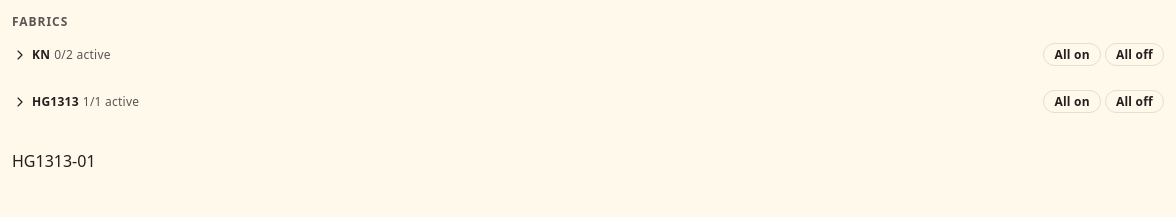
Scenario: FabricAllowedSection › All on ticks only that series and opens it; All off clears it
Click the 1st button "All on".
click(1072, 55)  # box [1043,43,1101,66]
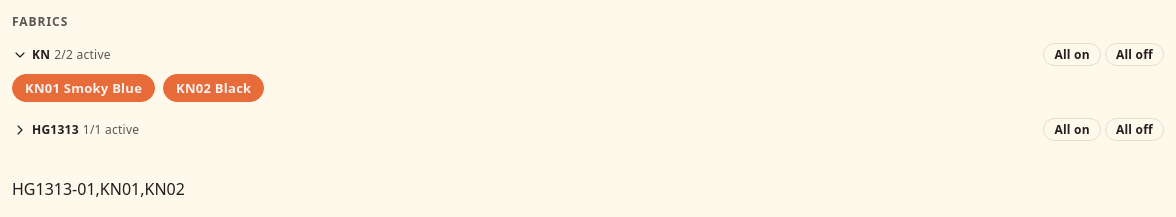
Expected: the button "KN 2/2 active" is expanded, [12,46,111,63]
Click the 1st button "All off".
click(1134, 55)  # box [1105,43,1164,66]
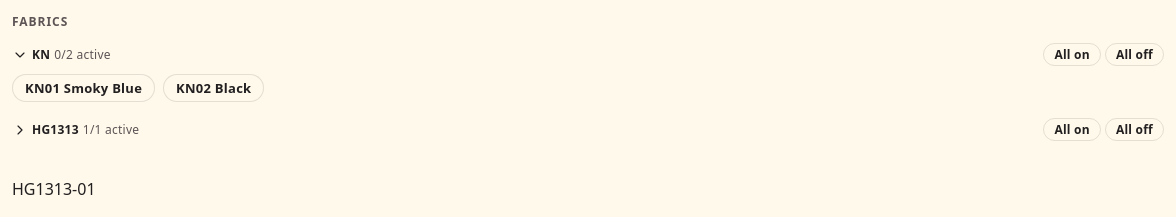
Expected: the text with test id "saved" reads "HG1313-01", [12,178,96,200]
Expected: the button "KN 0/2 active" is shown, [12,46,111,63]
